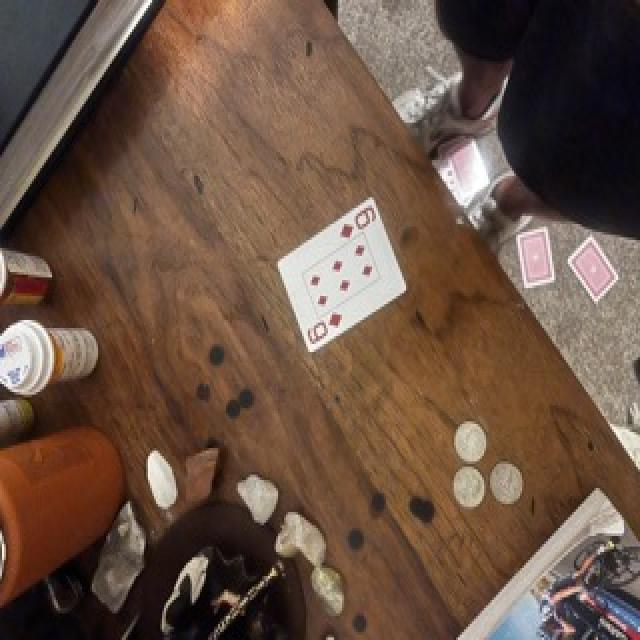6 of diamonds: (278, 198, 406, 352)
